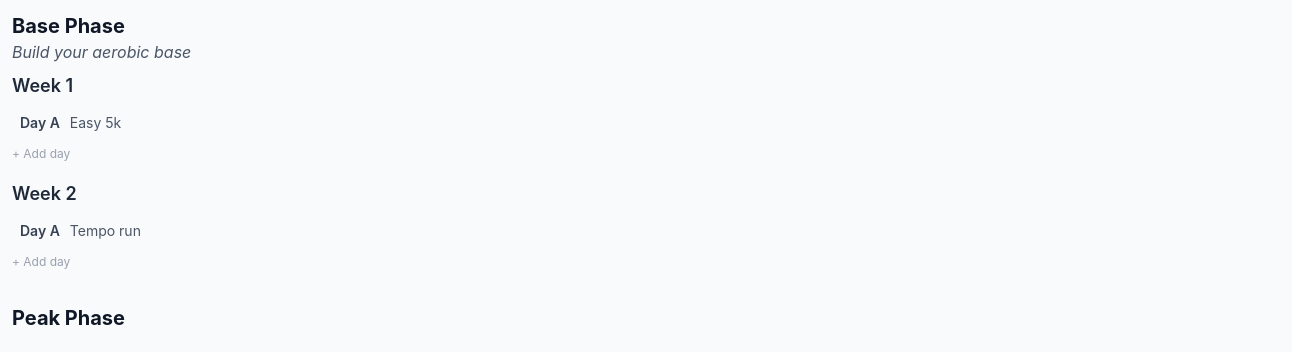
Scenario: PlanView › Add button becomes enabled only after both label and objective value are filled
Click the button titled "Add a day to this week" below "Easy 5k" at (41, 154), box [12, 146, 70, 162]
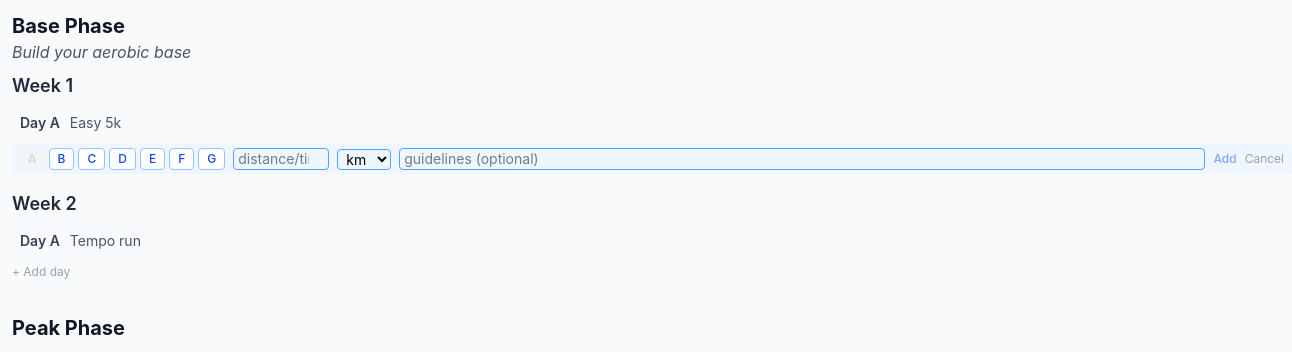
Click the button "B" at (61, 159), box [48, 148, 74, 170]
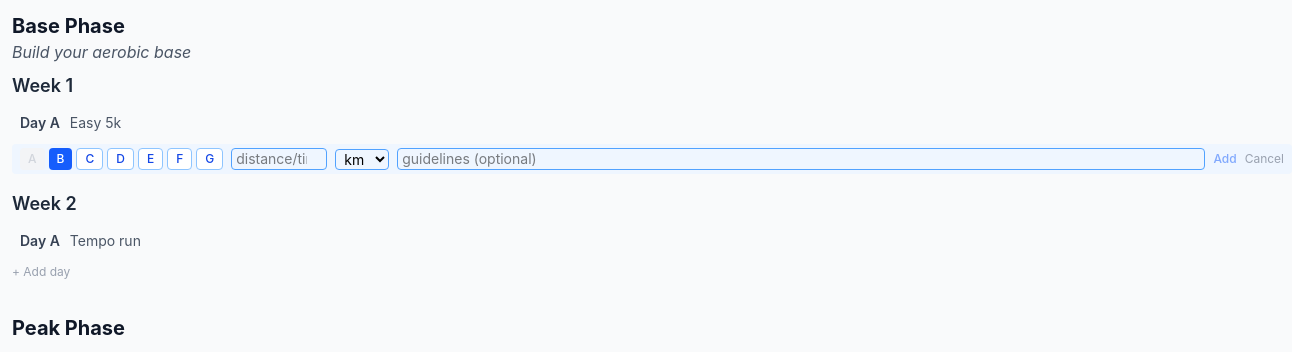
Expected: the button "Add" is disabled, [1213, 151, 1237, 167]
Type "5" into the number field with placeholder "distance/time" at (279, 159), box [231, 148, 327, 170]
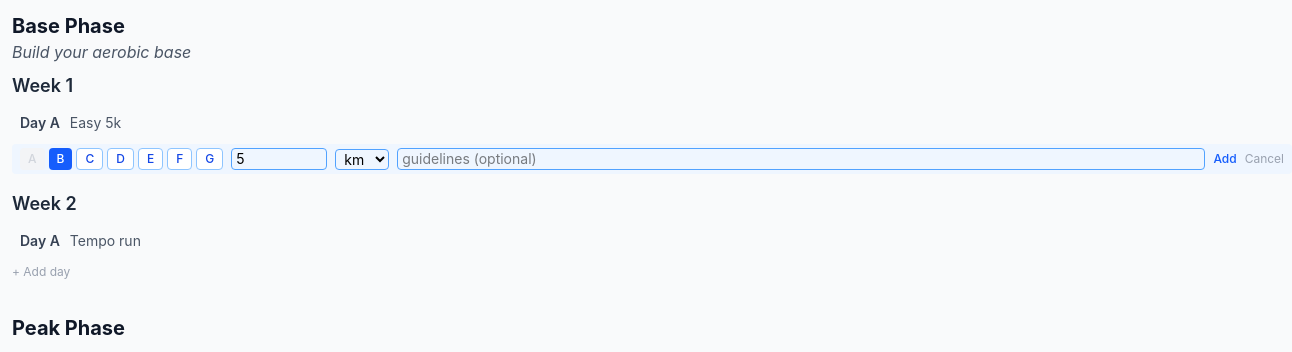
Expected: the button "Add" is enabled, [1213, 151, 1237, 167]
